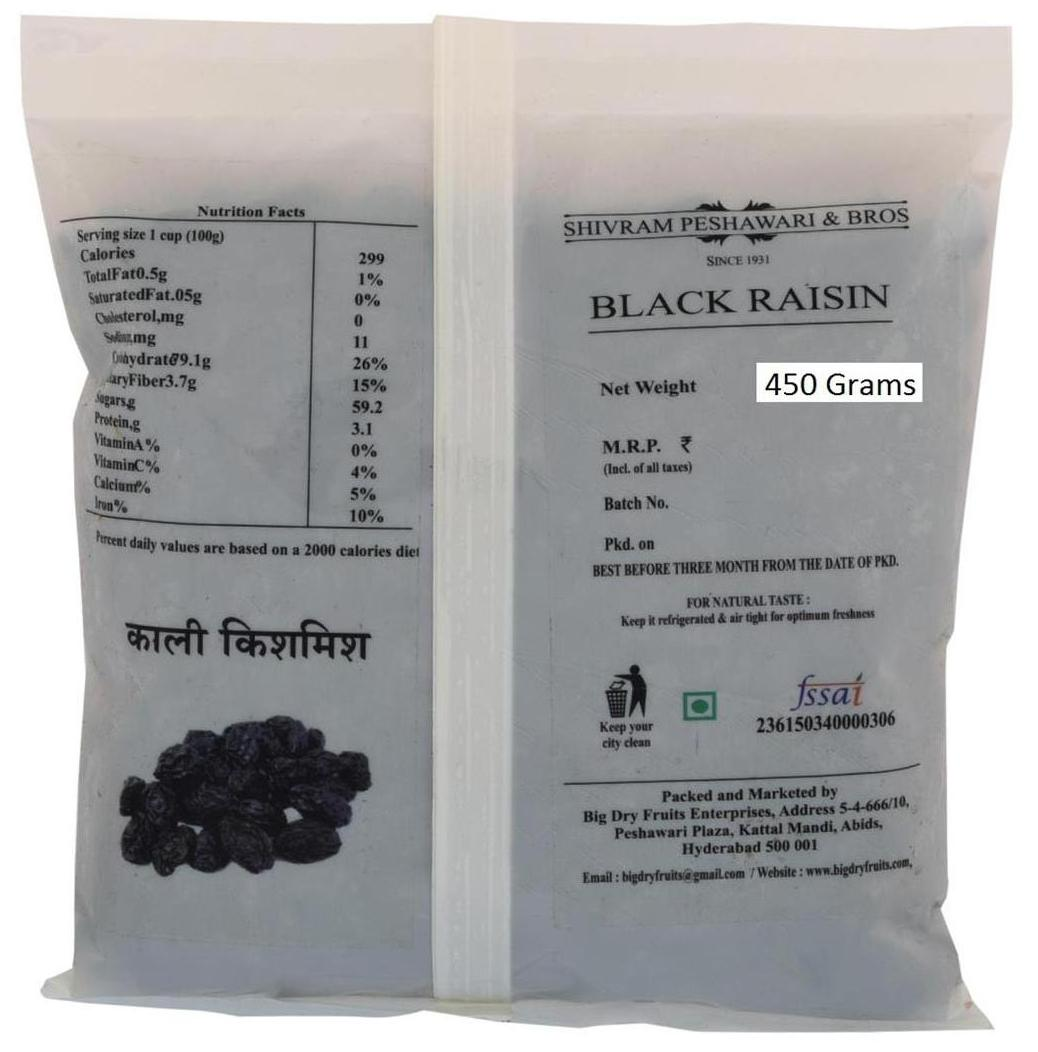fssai: (789, 674, 867, 710)
